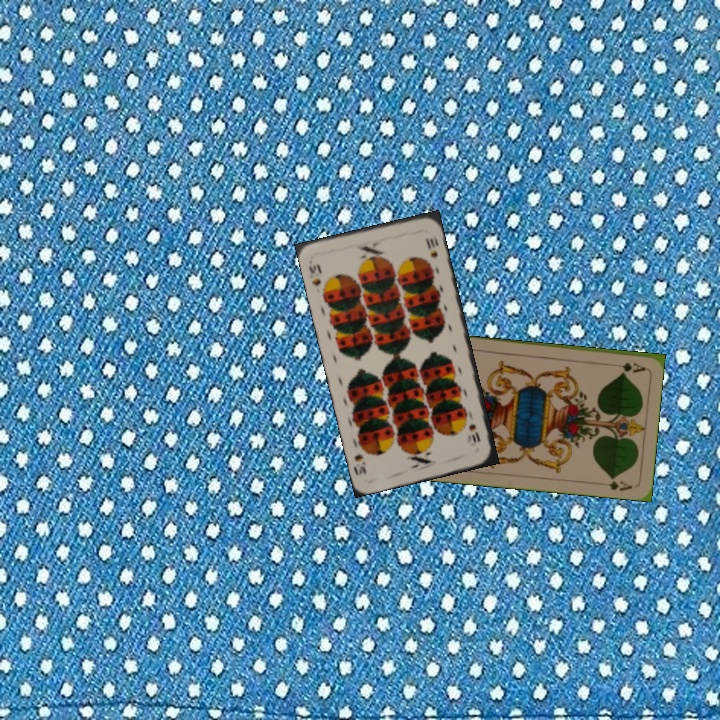GA: (607, 358, 648, 375)
S10: (305, 260, 324, 288), (465, 418, 483, 445)
